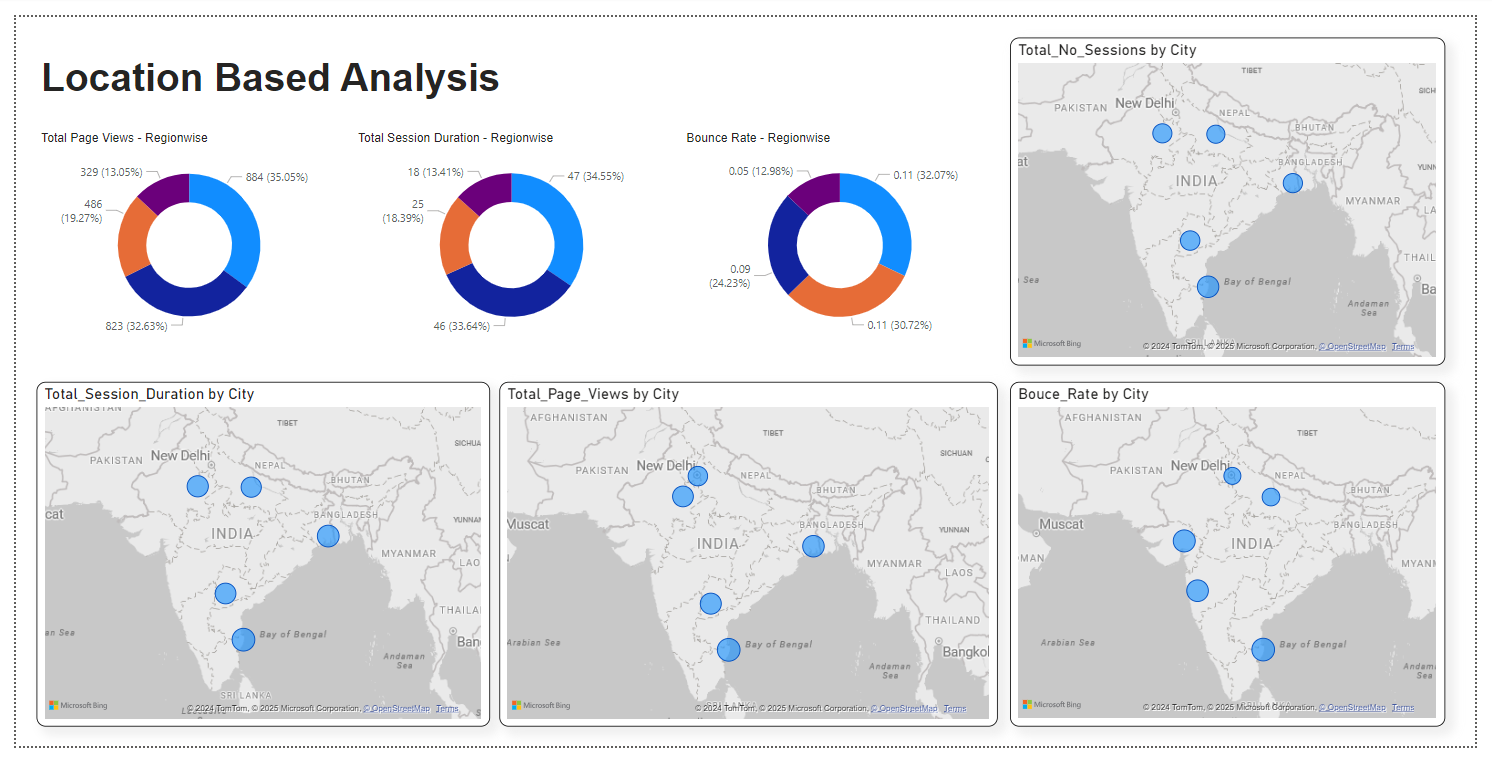

The page's visual inventory and layout, read from the dashboard file:
{"tool":"powerbi","page":{"name":"Location Based Analysis","canvas":[1600,800],"ordinal":3},"visuals":[{"type":"textbox","box":[22.8,35.9,534.2,69.5],"z":0},{"type":"donutChart","title":"Total Page Views - Regionwise","fields":{"Y":["#Measures.Total_Page_Views"],"Category":["Geo_Lookup.Region"]},"box":[22.8,124.6,334.2,234.8],"z":1000},{"type":"donutChart","title":"Total Session Duration - Regionwise","fields":{"Category":["Geo_Lookup.Region"],"Y":["#Measures.Total_Session_Duration"]},"box":[370.1,124.6,346.2,234.8],"z":2000},{"type":"donutChart","title":"Bounce Rate - Regionwise","fields":{"Category":["Geo_Lookup.Region"],"Y":["#Measures.Bouce_Rate"]},"box":[729.4,124.6,346.2,234.8],"z":3000},{"type":"map","fields":{"Size":["#Measures.Total_Session_Duration"],"Category":["Geo_Lookup.City"]},"box":[22.8,400.1,497.1,378.5],"z":4000},{"type":"map","fields":{"Category":["Geo_Lookup.City"],"Size":["#Measures.Total_Page_Views"]},"box":[529.4,400.1,546.2,378.5],"z":5000},{"type":"map","fields":{"Category":["Geo_Lookup.City"],"Size":["#Measures.Bouce_Rate"]},"box":[1089.6,400.1,477.5,377.9],"z":6000},{"type":"map","fields":{"Category":["Geo_Lookup.City"],"Size":["#Measures.Total_No_Sessions"]},"box":[1089.6,22.1,477.5,359.5],"z":7000}]}

Visuals, with their boxes in screenshot pixels (x1, y1, x2, y2), scaled from the page's 1600x800 canvas onto the 1492x758 screenshot:
textbox: bbox=(21, 34, 519, 100)
"Total Page Views - Regionwise" donutChart: bbox=(21, 118, 333, 341)
"Total Session Duration - Regionwise" donutChart: bbox=(345, 118, 668, 341)
"Bounce Rate - Regionwise" donutChart: bbox=(680, 118, 1003, 341)
map - #Measures.Total_Session_Duration x Geo_Lookup.City: bbox=(21, 379, 485, 738)
map - Geo_Lookup.City x #Measures.Total_Page_Views: bbox=(494, 379, 1003, 738)
map - Geo_Lookup.City x #Measures.Bouce_Rate: bbox=(1016, 379, 1461, 737)
map - Geo_Lookup.City x #Measures.Total_No_Sessions: bbox=(1016, 21, 1461, 362)
